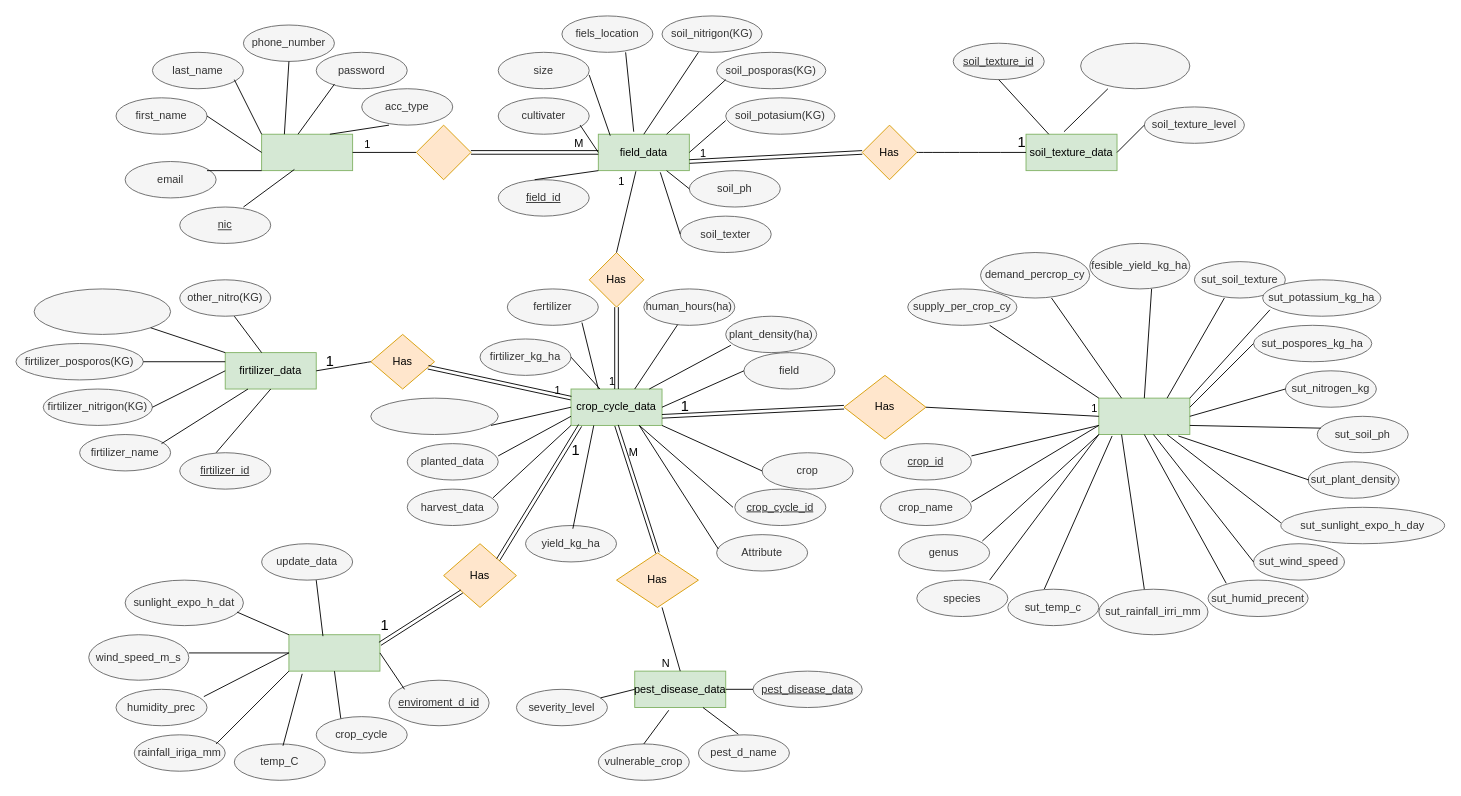
This 1461x796 diagram has some shape labels left out. Each missing label, with the centre of its shape:
crop_data: the point at 1144,416
enviromnt_data: the point at 334,652
firtilizer_potasium(KG): the point at 102,311
Ownes: the point at 443,152
predicted_yeild_kg_ha: the point at 434,416
soil_texture_name: the point at 1135,65
User_data: the point at 307,152
